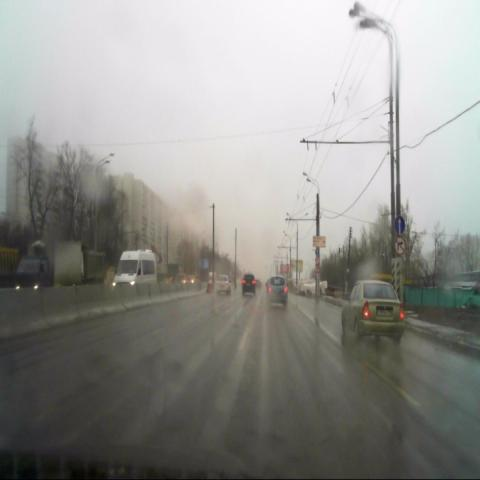3_18: (395, 237, 405, 254)
4_1_1: (394, 215, 404, 234)
